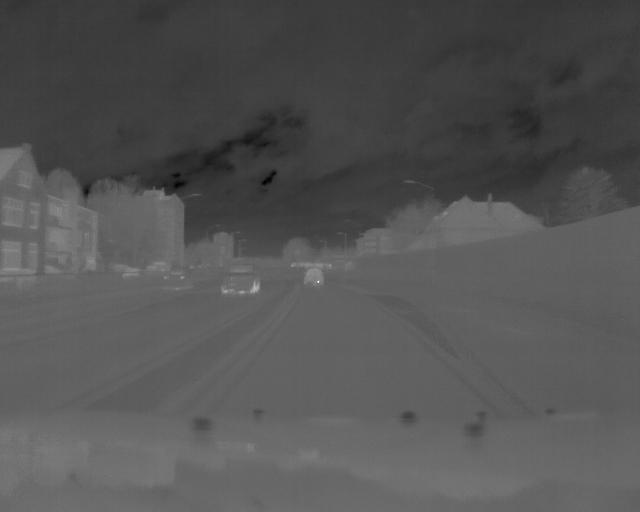car: (217, 258, 263, 296), (303, 265, 326, 287)
